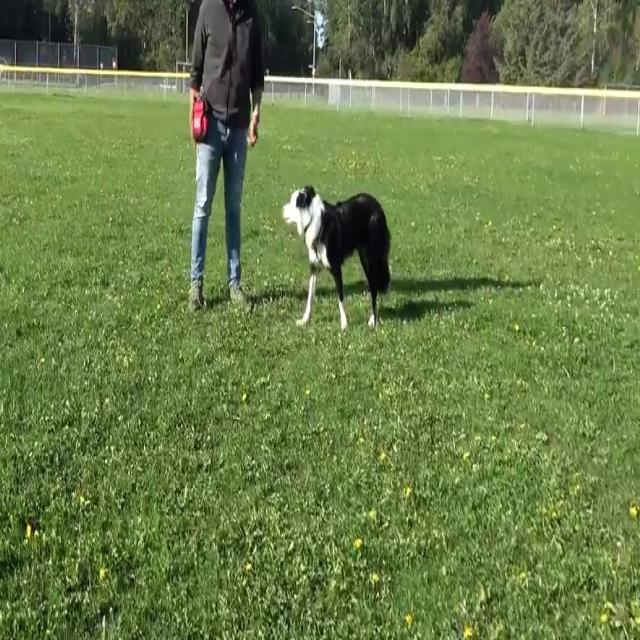Unleashed_Dog: (219, 123, 392, 331)
